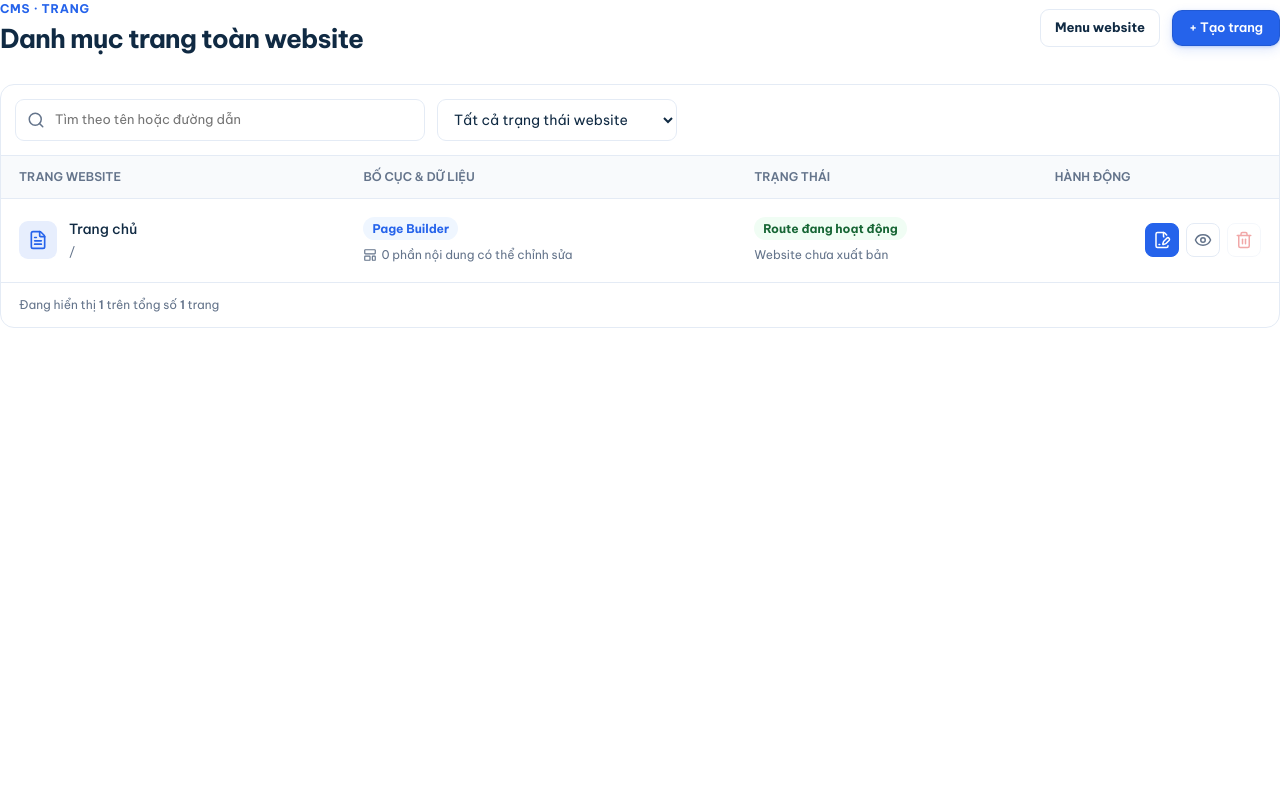
Test: site pages admin draft › keeps the page unpublished when the publish dialog is cancelled
Click the button named "Sửa trang Trang chủ" at (1162, 240), box top-left (1145, 223), bottom-right (1179, 257)
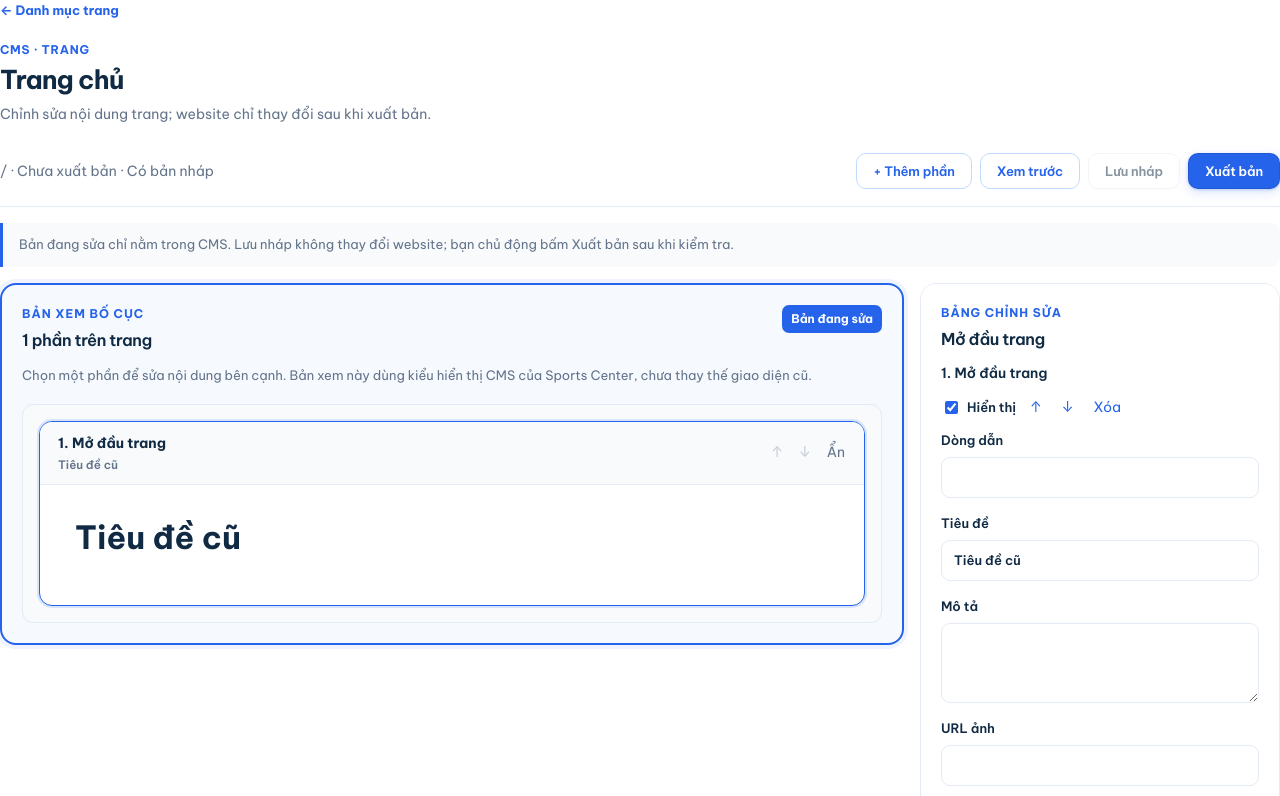
Click the button "Xuất bản" at (1234, 171), box top-left (1188, 153), bottom-right (1279, 189)
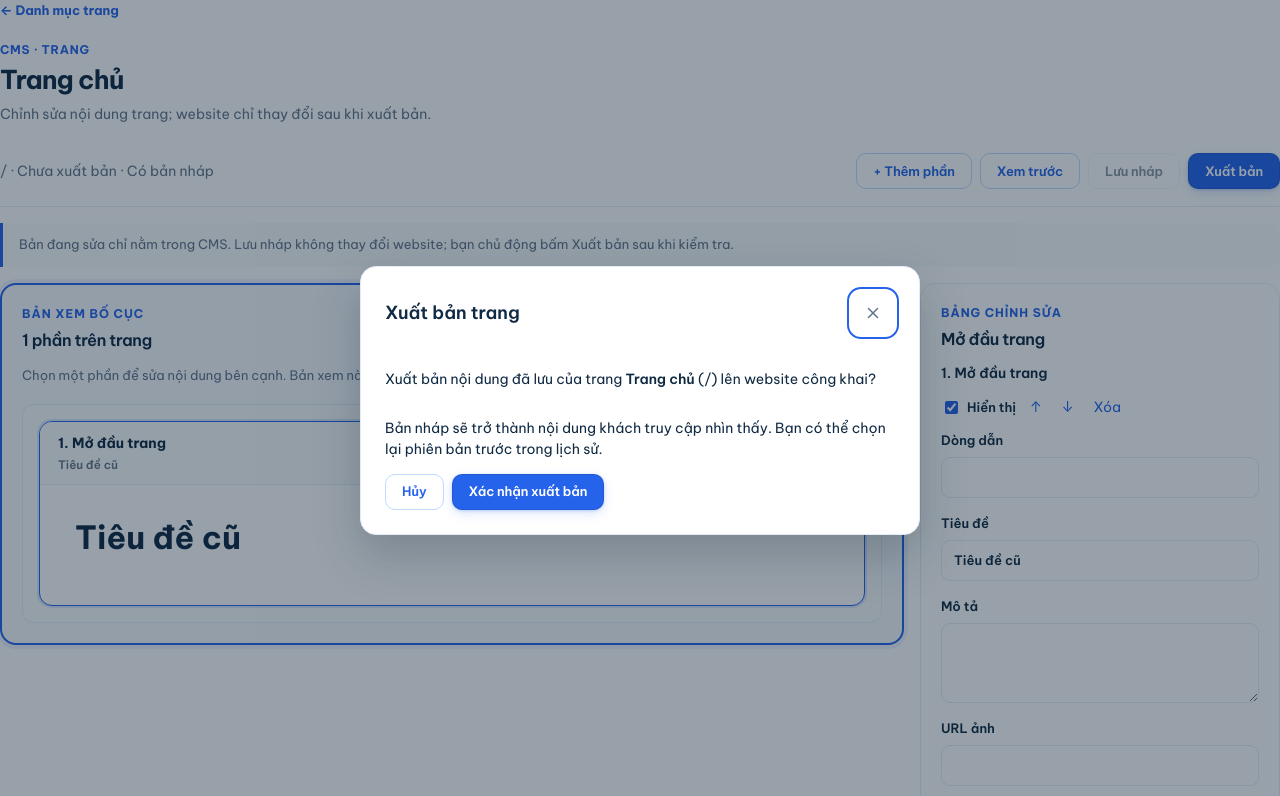
Click the button "Hủy" at (414, 492), box top-left (385, 474), bottom-right (444, 510)
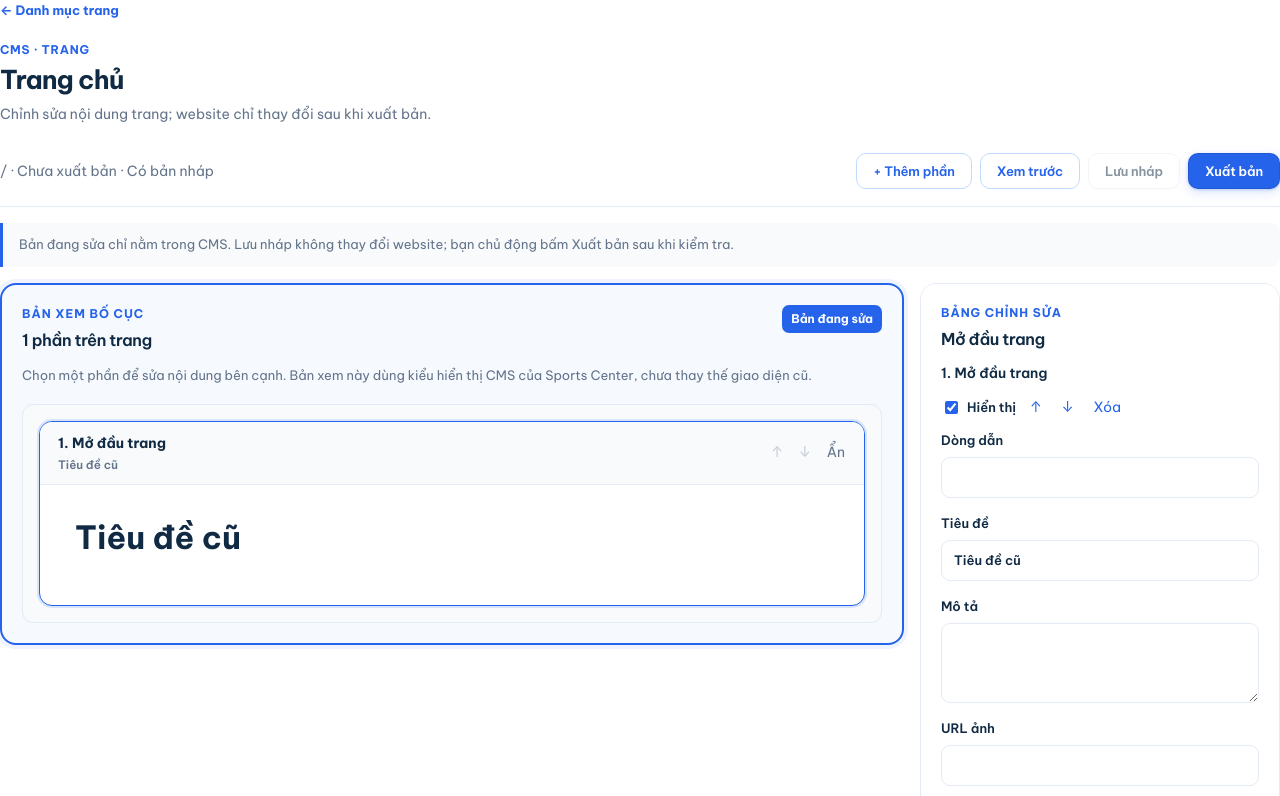
Now the heading "Xuất bản trang" is gone
